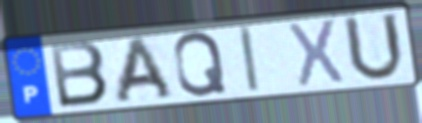A: (112, 35, 177, 106)
B: (47, 38, 112, 110)
I: (236, 23, 262, 95)
Q: (171, 29, 229, 99)
U: (340, 11, 407, 85)
X: (285, 16, 347, 89)
